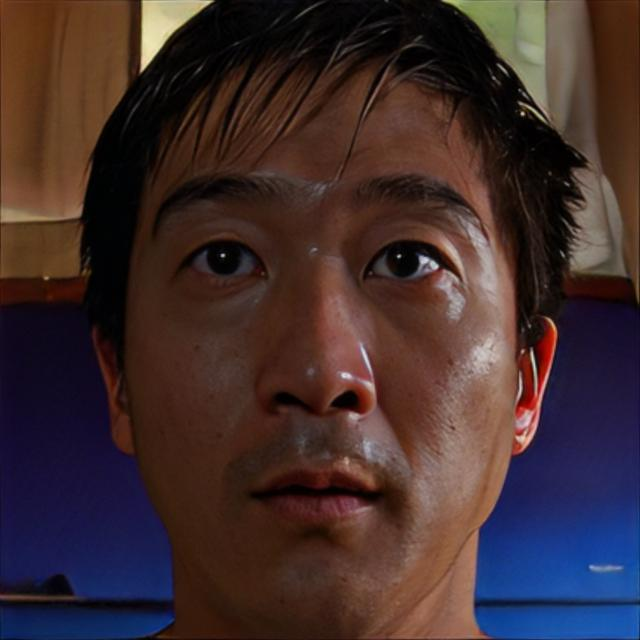surprise: (122, 44, 520, 626)
